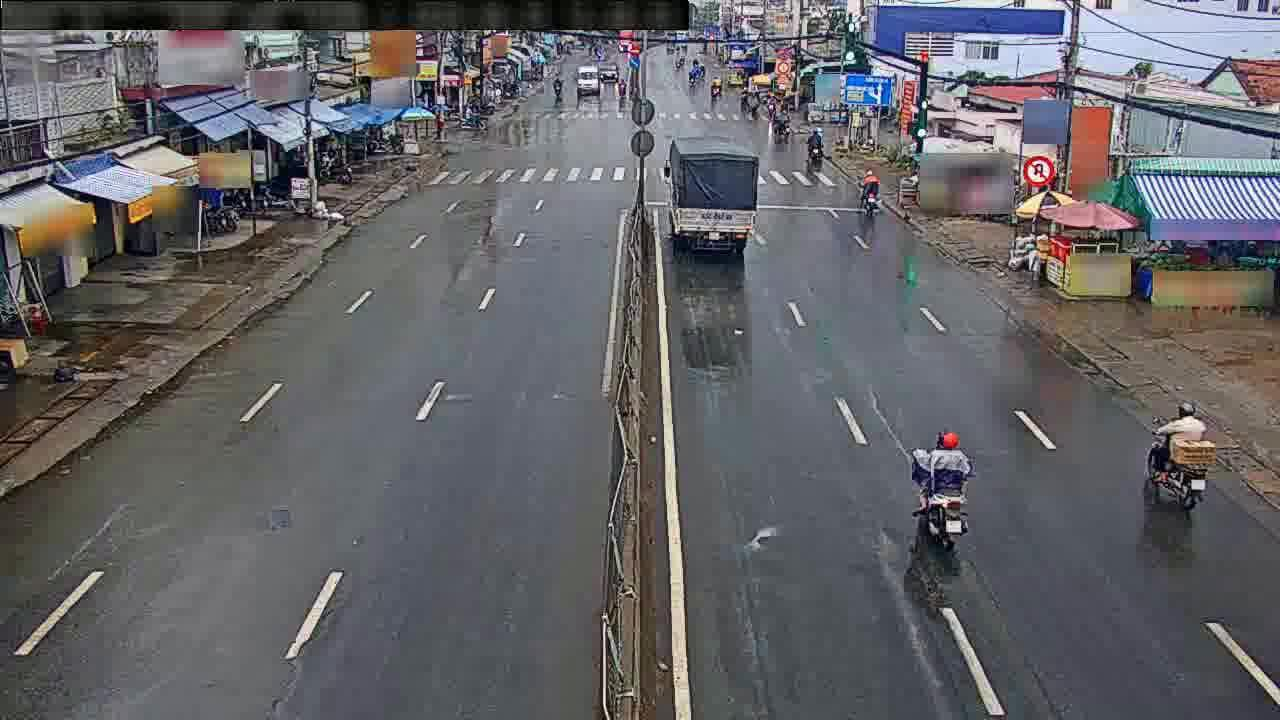8: (659, 134, 760, 251)
motorbike: (900, 425, 979, 552), (1142, 395, 1217, 516), (856, 170, 883, 213), (802, 125, 826, 161)
